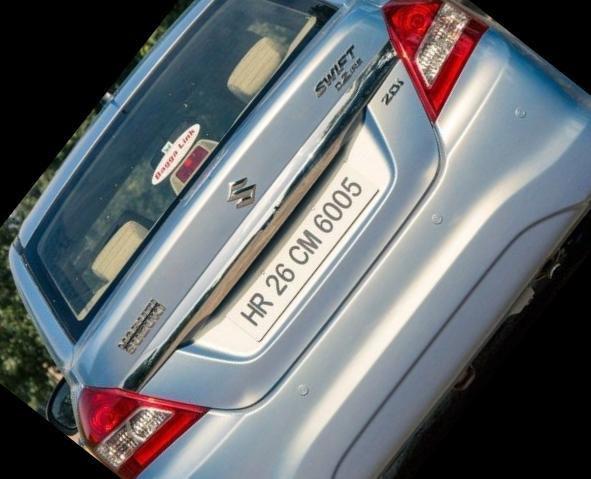plate: (206, 144, 404, 366)
